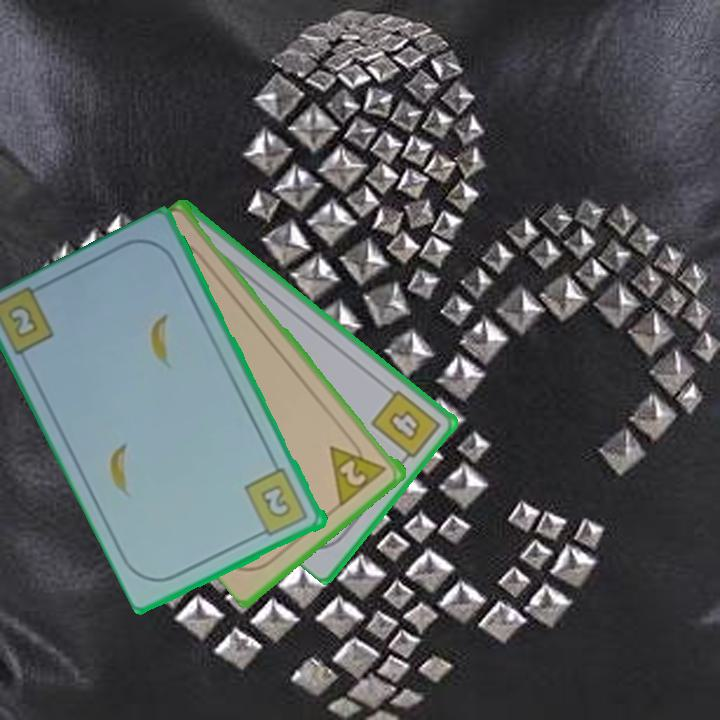2b: (241, 465, 312, 540), (7, 304, 39, 338)
2p: (326, 431, 390, 508)
4b: (367, 386, 444, 468)
